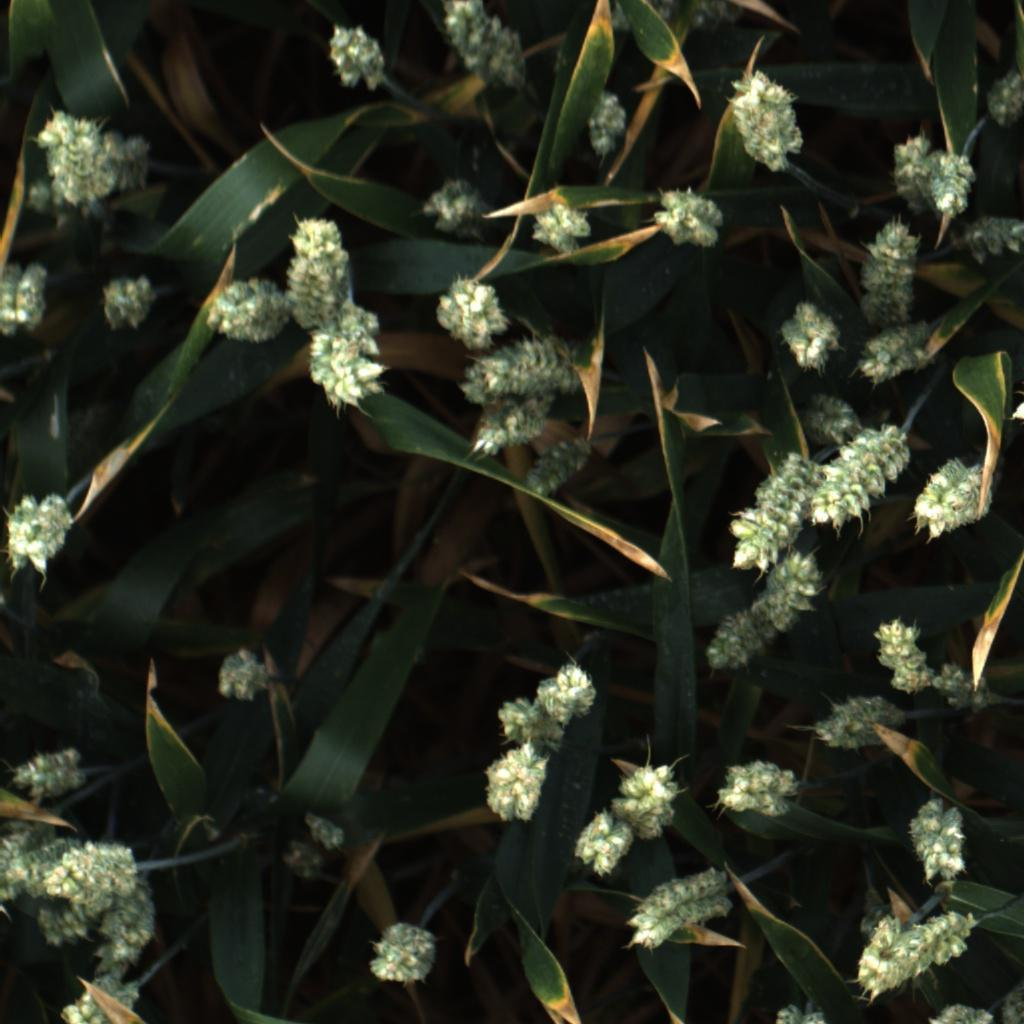0-0: (812, 415, 917, 534), (715, 440, 811, 569), (286, 214, 368, 333), (439, 0, 536, 95), (724, 71, 809, 176), (631, 865, 724, 953), (309, 310, 385, 416), (460, 335, 578, 402), (38, 100, 111, 207), (858, 215, 927, 321), (43, 838, 144, 904), (849, 916, 925, 1003), (433, 271, 515, 350), (6, 488, 77, 577), (97, 875, 161, 971), (484, 689, 566, 763), (907, 460, 984, 538), (202, 278, 292, 344), (611, 757, 692, 830), (759, 544, 825, 630), (1, 818, 53, 927), (477, 747, 550, 823), (652, 184, 731, 254), (811, 699, 906, 756), (319, 20, 395, 91), (697, 601, 768, 677), (49, 966, 142, 1024), (7, 739, 84, 806), (866, 620, 932, 698), (419, 176, 498, 240), (713, 761, 798, 820), (469, 398, 548, 461), (366, 922, 437, 992), (533, 655, 604, 725), (855, 321, 937, 380), (568, 804, 635, 874), (912, 800, 967, 885), (4, 835, 67, 909), (784, 300, 845, 375), (88, 132, 159, 196), (518, 437, 588, 501), (527, 197, 596, 261), (912, 901, 976, 967), (919, 151, 981, 218), (882, 129, 932, 211), (616, 0, 736, 34), (3, 262, 55, 340), (96, 268, 153, 338), (211, 643, 273, 704), (957, 214, 1024, 269), (30, 898, 95, 951), (582, 86, 628, 160), (931, 659, 995, 711), (801, 390, 864, 442), (981, 69, 1024, 129), (277, 841, 324, 886), (304, 808, 352, 851)
